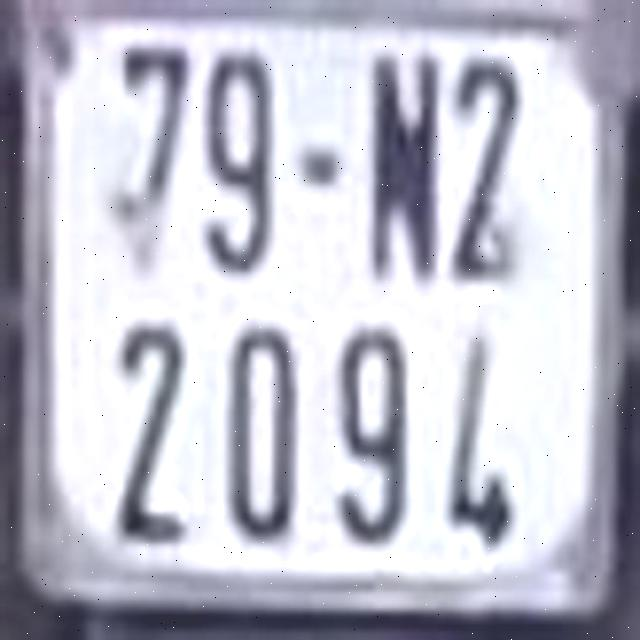0: (226, 324, 298, 540)
2: (117, 321, 190, 544), (451, 58, 518, 281)
4: (447, 335, 516, 552)
7: (110, 40, 190, 275)
9: (202, 47, 274, 275), (338, 325, 408, 545)
M: (369, 50, 440, 286)
